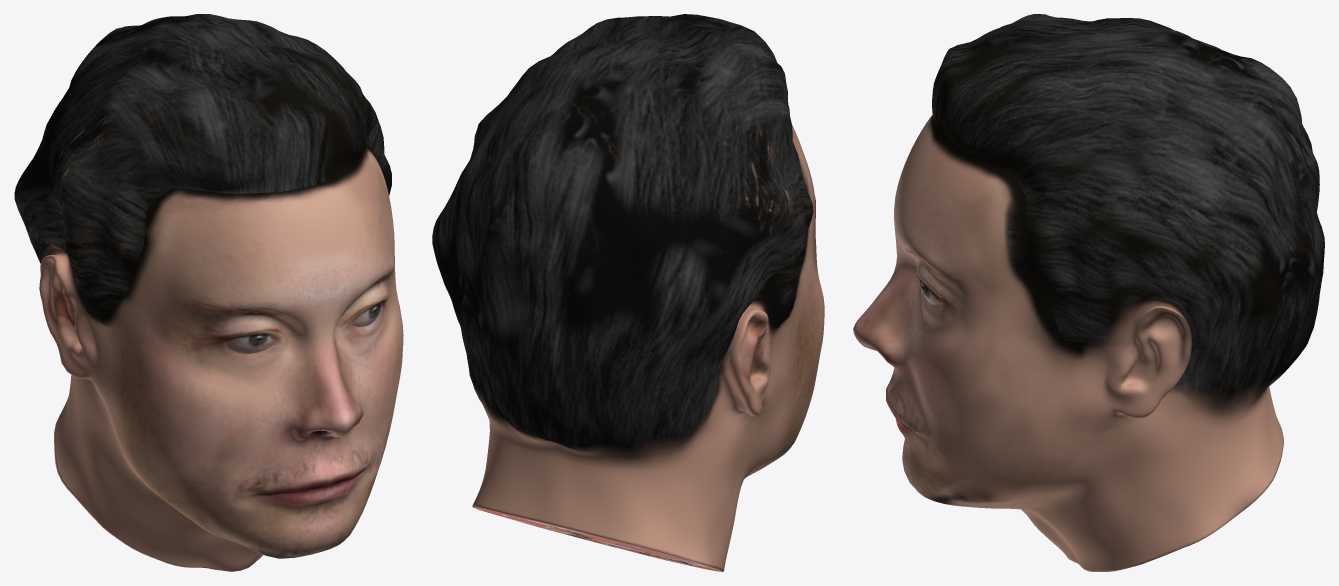
3 renders of one model, left to right at view 1: azimuth 30°, elevation 25°; view 2: azimuth 150°, elevation 25°; view 3: azimuth 270°, elevation 25°, orthographic.
Parts seen in each view (by area): view 1: node_50779f49_6d1f_47af_9ede_2481d75430bd_mesh0; view 2: node_50779f49_6d1f_47af_9ede_2481d75430bd_mesh0; view 3: node_50779f49_6d1f_47af_9ede_2481d75430bd_mesh0.
Boxes of the visible parts, x1,y1,x2,y2 form: node_50779f49_6d1f_47af_9ede_2481d75430bd_mesh0: (14, 14, 403, 571); node_50779f49_6d1f_47af_9ede_2481d75430bd_mesh0: (432, 14, 824, 571); node_50779f49_6d1f_47af_9ede_2481d75430bd_mesh0: (853, 14, 1324, 571).
Size of the model in its own units: 127 by 200 by 165.
Materials: 1 (1 with a texture image).
